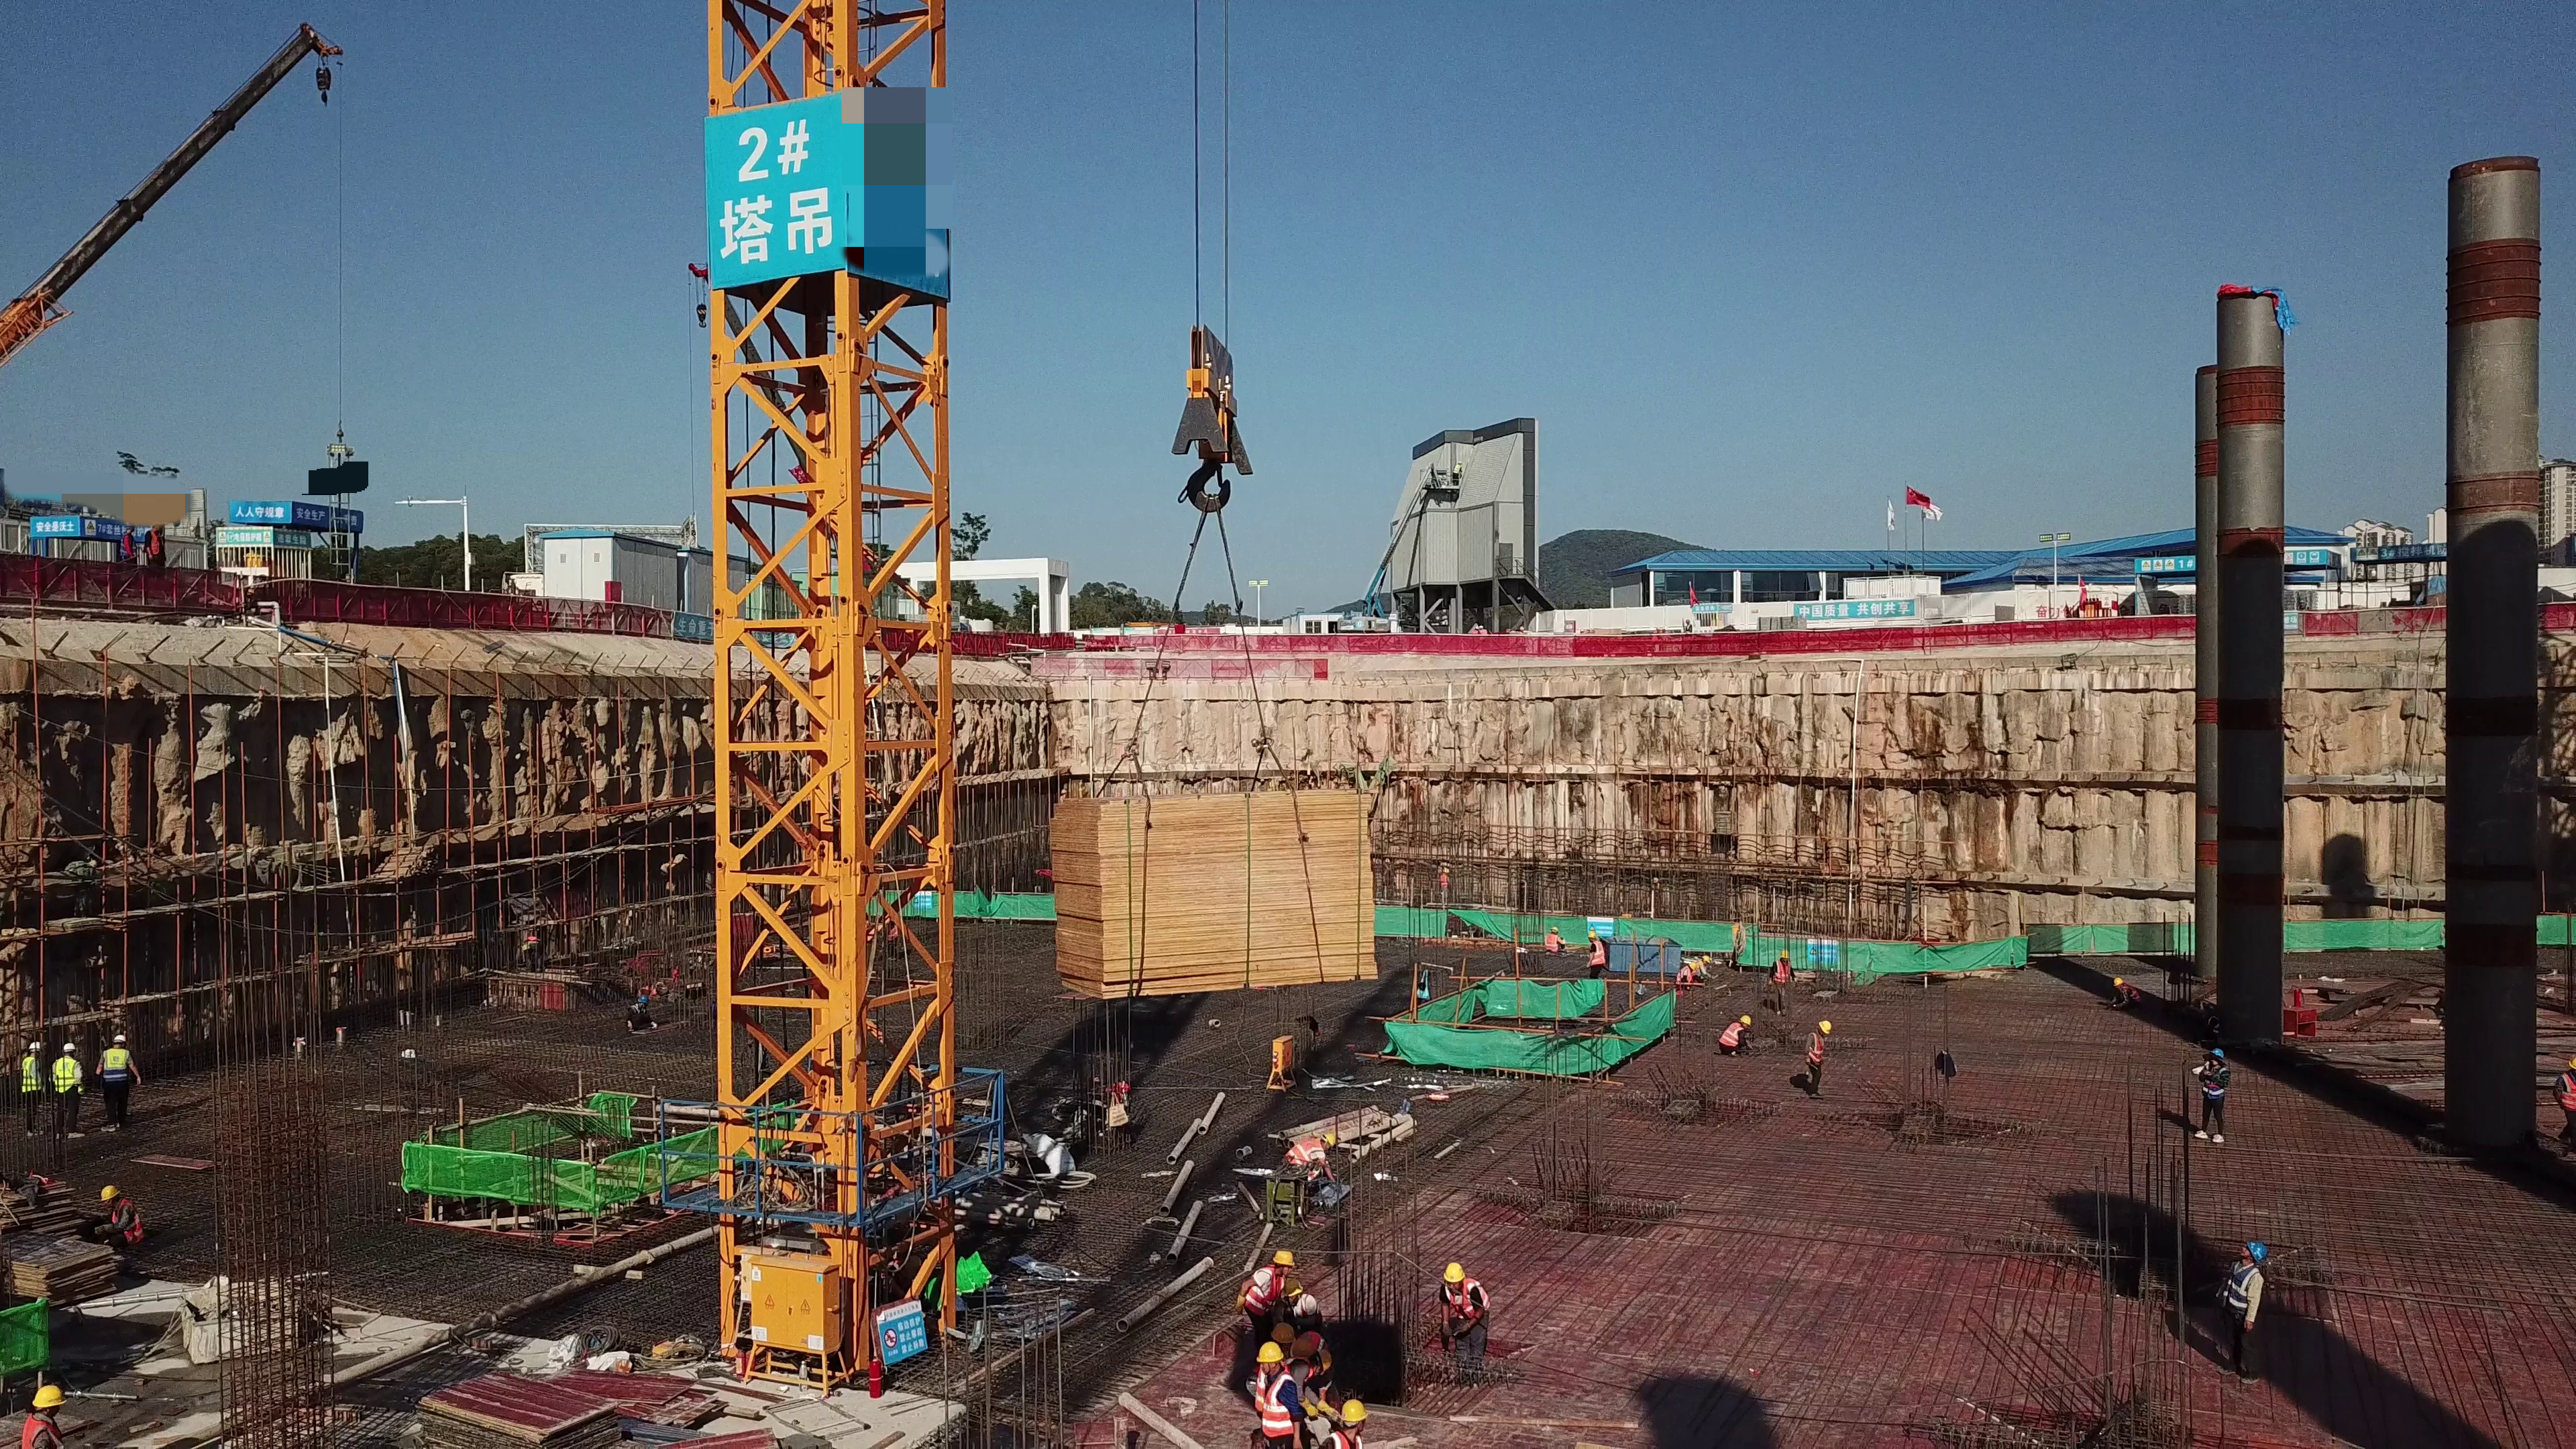board: (1053, 773, 1373, 1010), (400, 1356, 740, 1449), (1, 1176, 98, 1301)
brick: (1756, 614, 1813, 633)
ebox: (735, 1246, 845, 1377), (1265, 1034, 1322, 1093)
fence: (374, 578, 571, 625), (1939, 620, 2165, 649)
helmet: (1253, 1344, 1283, 1363), (1343, 1398, 1368, 1421), (1271, 1246, 1295, 1269), (1271, 1322, 1295, 1344), (1316, 1348, 1336, 1375), (1288, 1338, 1315, 1355), (2246, 1239, 2266, 1260), (1445, 1263, 1464, 1282), (1283, 1281, 1301, 1294), (28, 1040, 44, 1053), (2209, 1046, 2226, 1061), (1819, 1021, 1831, 1036), (1323, 1132, 1335, 1144), (113, 1033, 128, 1043), (150, 521, 166, 529), (1739, 1014, 1752, 1025), (62, 1043, 76, 1053), (637, 995, 651, 1003), (1702, 954, 1711, 964), (1587, 930, 1599, 938), (1550, 924, 1558, 932), (2112, 978, 2123, 986), (125, 522, 135, 529), (1780, 951, 1790, 958), (1689, 962, 1697, 970), (1440, 867, 1448, 873)
hook: (1167, 323, 1254, 512), (684, 288, 715, 329), (315, 64, 332, 107)
hopper: (1605, 931, 1686, 977)
person: (2217, 1240, 2274, 1388), (1434, 1255, 1503, 1370), (1249, 1340, 1303, 1449), (93, 1028, 139, 1138), (1235, 1246, 1292, 1328), (91, 1181, 150, 1251), (50, 1038, 87, 1144), (2196, 1047, 2233, 1153), (19, 1381, 78, 1449), (18, 1038, 50, 1138), (1320, 1388, 1370, 1449), (1801, 1018, 1836, 1097), (1284, 1130, 1341, 1181), (1285, 1279, 1330, 1333), (2553, 1051, 2576, 1148), (1764, 949, 1795, 1016), (1288, 1350, 1335, 1393), (2098, 974, 2143, 1017), (2192, 1005, 2234, 1047), (1717, 1012, 1756, 1057), (145, 519, 173, 580), (524, 916, 554, 973), (625, 994, 662, 1037), (1582, 929, 1605, 983), (120, 521, 142, 568), (1674, 960, 1700, 991), (1543, 923, 1566, 958), (1436, 865, 1452, 904), (1694, 954, 1717, 980), (1468, 623, 1493, 635), (1678, 619, 1697, 634)
slogan: (714, 127, 855, 273), (676, 610, 799, 645), (1795, 603, 1923, 619), (299, 504, 365, 525), (35, 509, 76, 538), (223, 528, 269, 549), (229, 505, 287, 523), (278, 533, 309, 546)
vest: (1266, 1373, 1293, 1439), (1246, 1271, 1278, 1309), (2230, 1266, 2255, 1314), (1446, 1288, 1487, 1317), (1287, 1138, 1322, 1166), (2201, 1067, 2227, 1097), (54, 1059, 80, 1090), (22, 1057, 43, 1093), (2557, 1073, 2576, 1108), (105, 1049, 125, 1079), (1805, 1033, 1825, 1065), (1327, 1432, 1361, 1449), (1723, 1022, 1742, 1049), (1775, 961, 1791, 987), (1589, 943, 1605, 968), (150, 534, 166, 557), (121, 537, 136, 555), (2123, 984, 2139, 1002), (1545, 934, 1558, 951), (1676, 966, 1690, 979), (631, 1006, 646, 1019), (531, 941, 543, 956), (1438, 875, 1449, 890)
